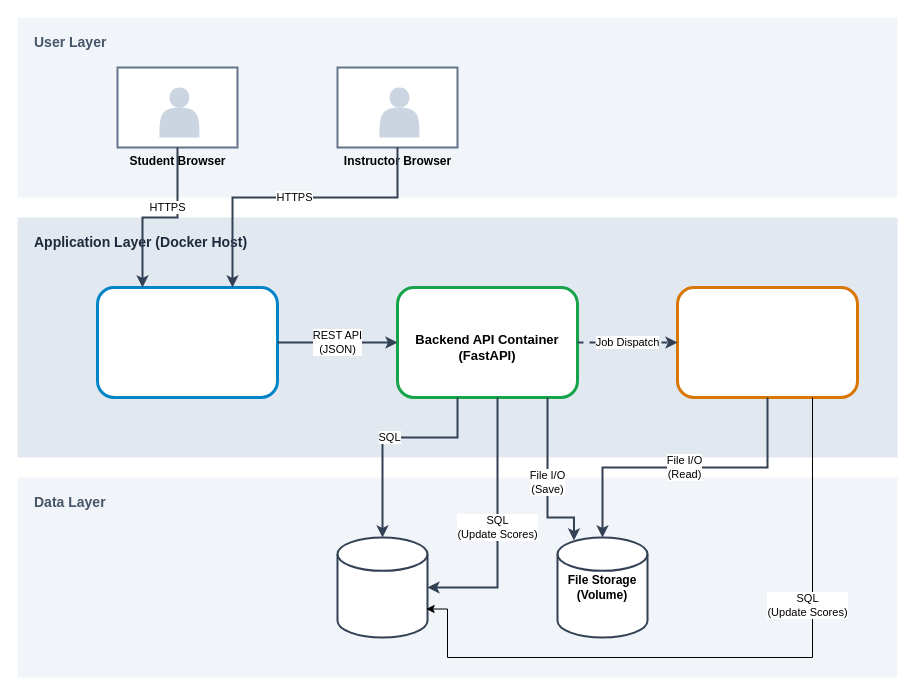
Image size: 914x694. Some labels were removed from this diagram. Here are the shapes that lost their labels. From the top down, the centre of each, then its label:
At point (187, 342): "Frontend Container (React)".
At point (767, 342): "Analysis Worker (Python)".
At point (382, 587): "PostgreSQL Database".
